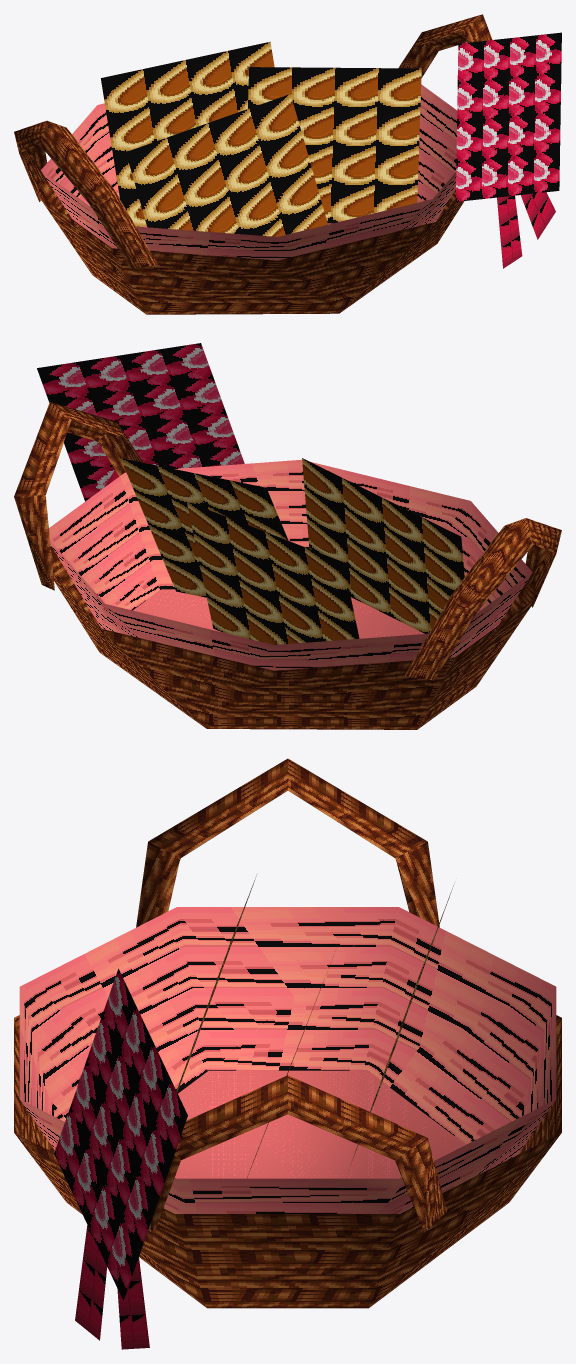
File: 0058ucc_m_ck1_e.gltf
3 renders of one model, top to bottom at view 1: azimuth 30°, elevation 25°; view 2: azimuth 150°, elevation 25°; view 3: azimuth 270°, elevation 25°, orthographic. The views are drawn at different scales.
Visible parts, largest first — view 1: 0058ucc_m_ck1_e; view 2: 0058ucc_m_ck1_e; view 3: 0058ucc_m_ck1_e.
Boxes of the visible parts, x1,y1,x2,y2 form: 0058ucc_m_ck1_e: (14,14,561,314); 0058ucc_m_ck1_e: (14,343,561,729); 0058ucc_m_ck1_e: (14,758,561,1349).
Bounding box in the file's own units: 0.7632 × 0.3345 × 0.498.
Materials: 5 (5 with a texture image).
